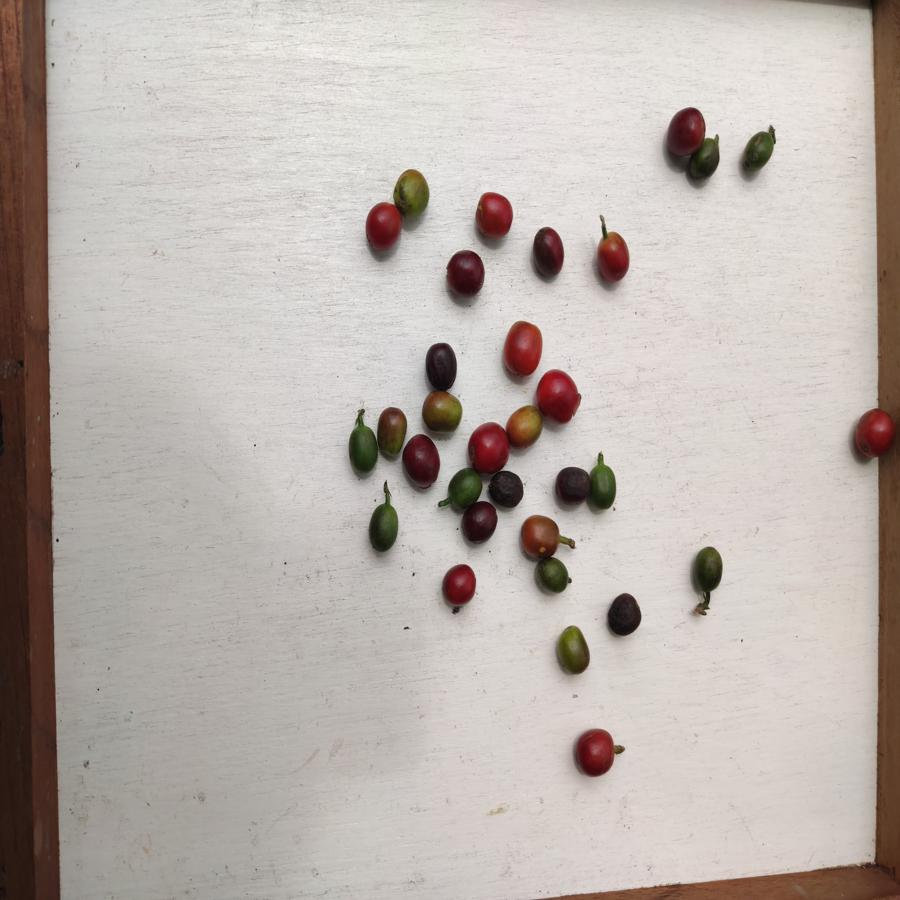Inmaduro: (363, 501, 401, 553), (693, 544, 725, 596), (529, 558, 572, 595), (741, 127, 776, 172), (443, 468, 481, 508), (348, 425, 377, 477), (589, 462, 617, 510), (691, 138, 720, 180)
Maduro: (851, 404, 897, 462), (536, 367, 580, 426), (502, 320, 545, 378), (464, 419, 508, 471), (591, 230, 632, 285), (573, 727, 615, 777), (362, 199, 401, 252), (474, 192, 513, 239), (440, 562, 477, 605)
Pinton: (519, 514, 561, 559), (557, 624, 593, 676), (419, 389, 462, 432), (393, 167, 429, 216), (374, 405, 406, 458), (506, 406, 545, 447)
Sobremaduro: (399, 432, 441, 489), (445, 245, 487, 299), (666, 105, 706, 157), (531, 224, 566, 279), (604, 593, 643, 638), (461, 503, 501, 545), (424, 342, 458, 389), (555, 465, 592, 505), (490, 473, 524, 508)
